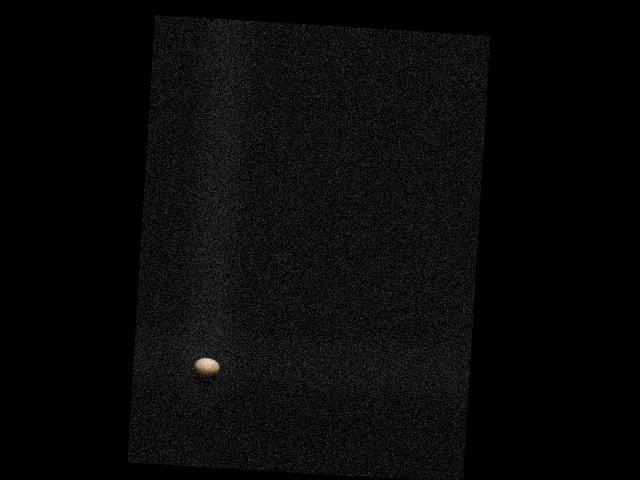egg: (193, 356, 220, 377)
